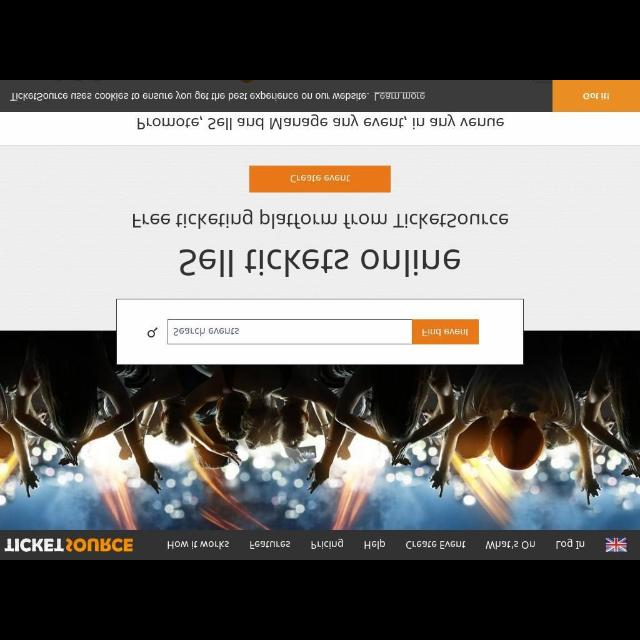icon: (148, 327, 158, 338)
iframe: (1, 80, 640, 112)
image: (1, 331, 640, 529), (5, 538, 134, 552), (605, 538, 627, 552)
input: (168, 320, 410, 344)
panel: (117, 298, 525, 364)
text: (180, 248, 460, 276), (133, 209, 509, 229), (137, 114, 505, 130), (9, 90, 425, 102), (173, 326, 239, 336), (167, 540, 230, 550), (406, 540, 466, 550), (486, 540, 536, 550), (422, 327, 470, 337), (291, 174, 351, 182), (250, 540, 292, 550), (311, 538, 343, 550), (555, 537, 585, 549), (364, 538, 386, 550), (584, 92, 610, 100)
textbutton: (250, 165, 392, 192), (552, 80, 640, 112), (412, 318, 478, 344)
toolbar: (1, 530, 640, 560)
